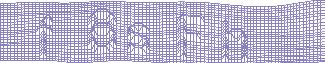8: (85, 7, 120, 56)
F: (175, 14, 205, 61)
f: (34, 15, 52, 60)
h: (220, 18, 249, 62)
s: (123, 22, 152, 57)
